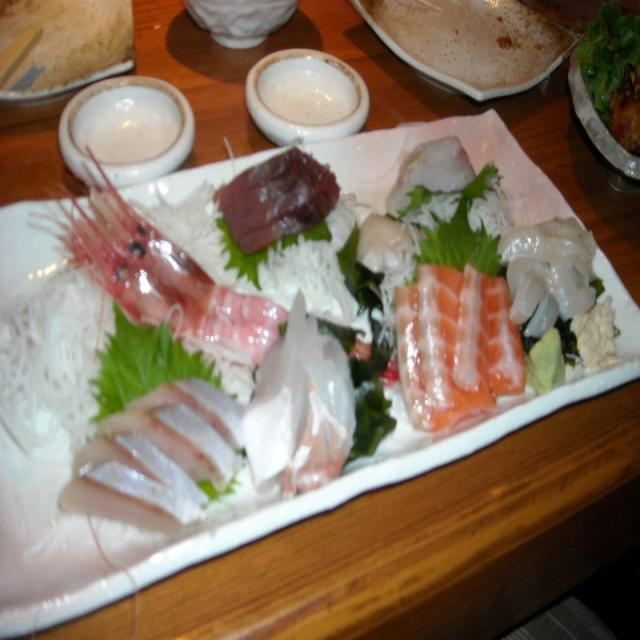刺身生食: (21, 119, 640, 556)
